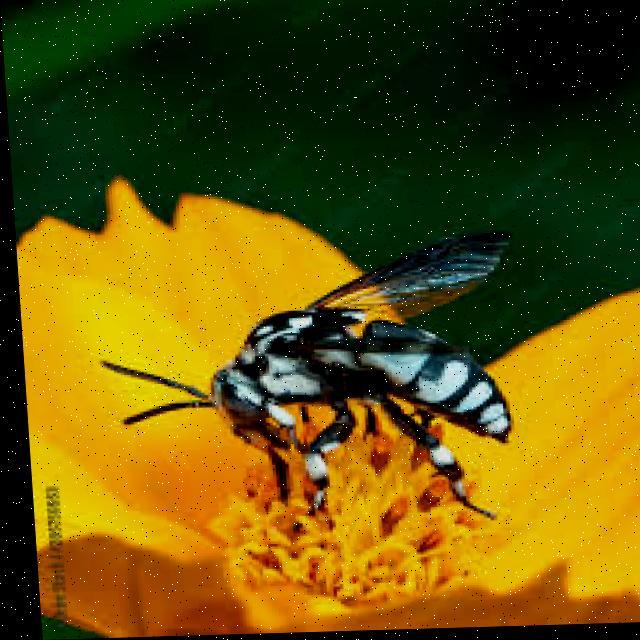Thyreus: (70, 217, 551, 556)
